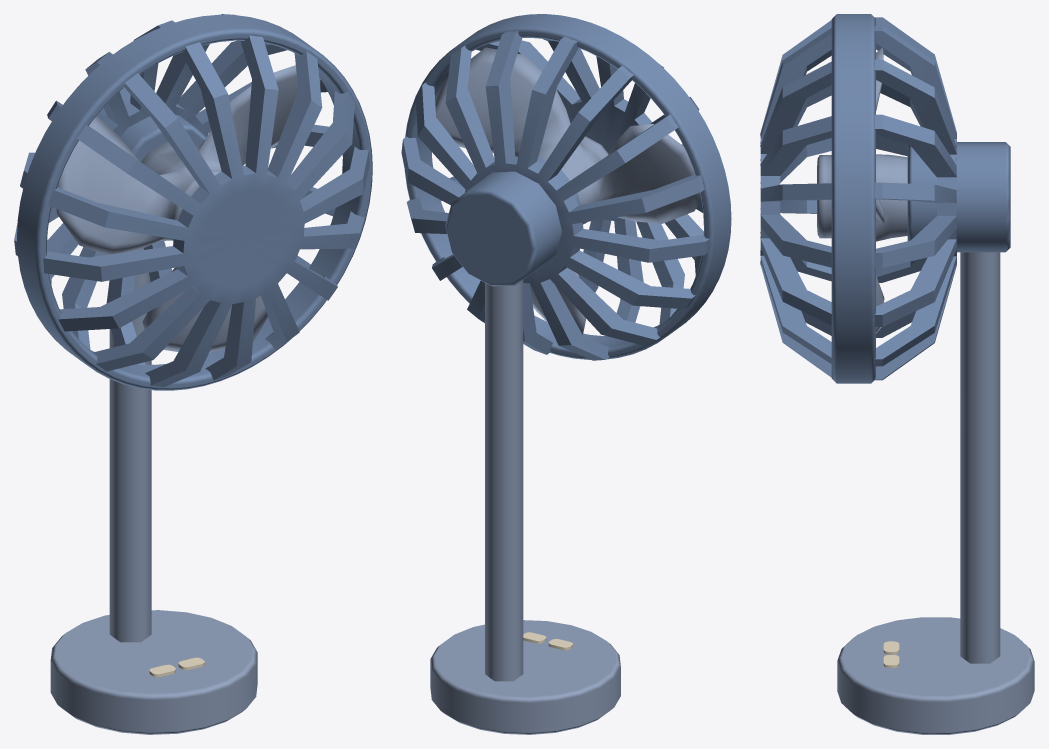
Rendered from fan1.glb.
3 views of the same model, side by side, from view 1: azimuth 30°, elevation 25°; view 2: azimuth 150°, elevation 25°; view 3: azimuth 270°, elevation 25° (orthographic). The views are drawn at different scales.
Parts seen in each view (by area): view 1: Cylinder 13, Cylinder 14, Cylinder 19, Cylinder 16, Cylinder 18, Cylinder 15, Cylinder 17; view 2: Cylinder 15, Cylinder 14, Cylinder 19, Cylinder 18, Cylinder 16, Cylinder 17, Cylinder 13; view 3: Cylinder 15, Cylinder 19, Cylinder 13, Cylinder 18, Cylinder 14, Cylinder 17, Cylinder 16.
Boxes of the visible parts, x1,y1,x2,y2 form: Cylinder 13: (43, 35, 369, 387); Cylinder 14: (17, 14, 372, 390); Cylinder 19: (50, 610, 257, 734); Cylinder 16: (56, 65, 320, 352); Cylinder 18: (109, 248, 151, 642); Cylinder 15: (14, 14, 335, 364); Cylinder 17: (97, 88, 206, 161); Cylinder 15: (401, 31, 709, 360); Cylinder 14: (404, 14, 731, 359); Cylinder 19: (430, 620, 620, 734); Cylinder 18: (485, 280, 523, 681); Cylinder 16: (435, 47, 701, 334); Cylinder 17: (445, 157, 580, 286); Cylinder 13: (434, 39, 703, 339); Cylinder 15: (874, 17, 956, 380); Cylinder 19: (837, 617, 1034, 734); Cylinder 13: (760, 20, 831, 377); Cylinder 18: (960, 252, 1000, 663); Cylinder 14: (831, 14, 875, 383); Cylinder 17: (907, 142, 1010, 252); Cylinder 16: (817, 47, 907, 333).
Bounding box in the file's own units: 1.12 × 2.22 × 0.83.
